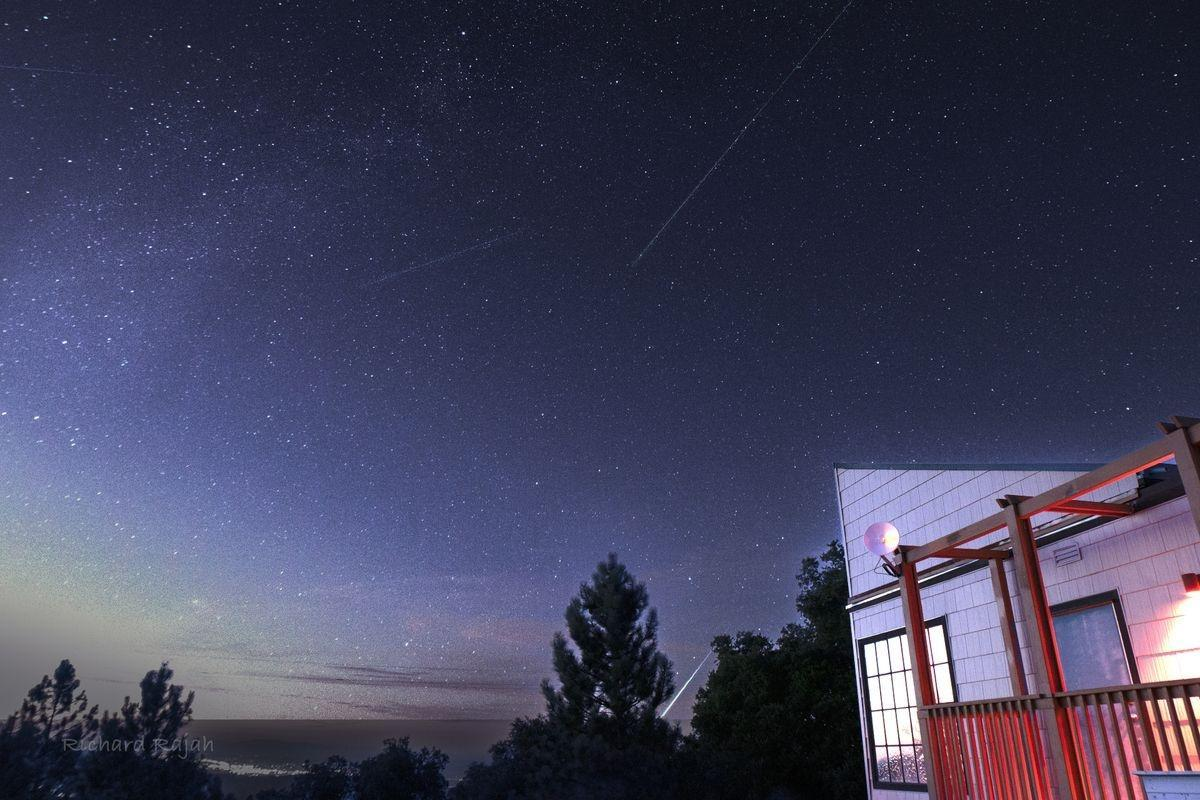meteorite: (594, 90, 773, 279)
